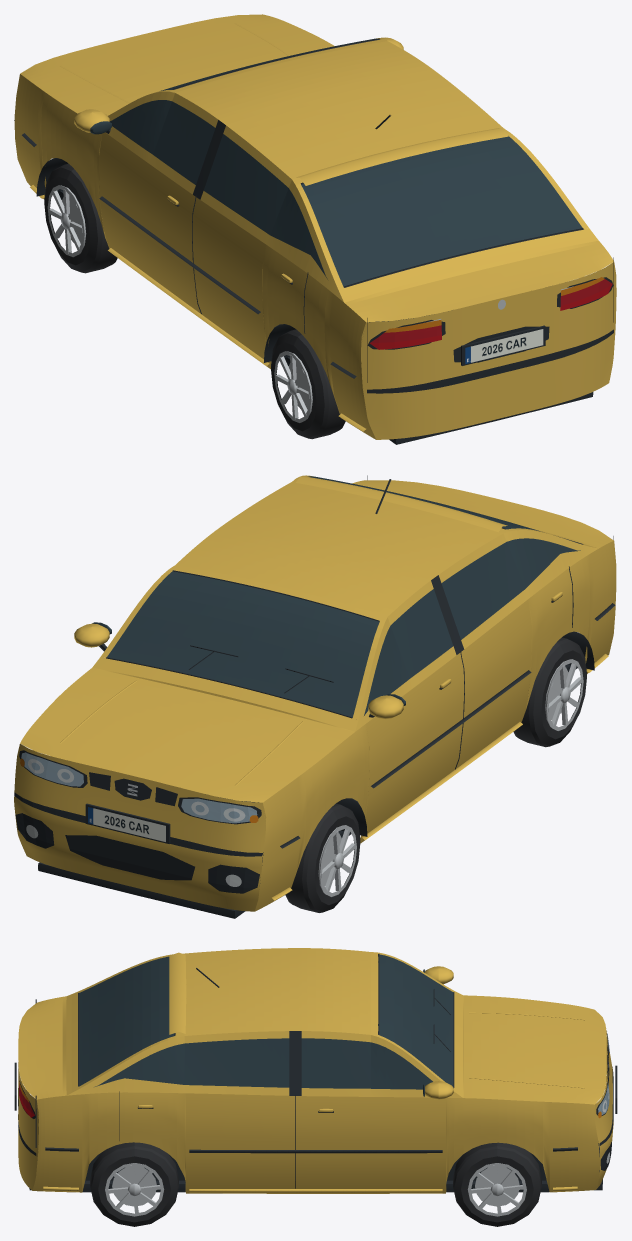
The model's file is Entrega_15_LOD1.glb.
3 views of the same model, one above another, from view 1: azimuth 30°, elevation 25°; view 2: azimuth 150°, elevation 25°; view 3: azimuth 270°, elevation 25° (orthographic). The views are drawn at different scales.
Visible parts, largest first — view 1: Body, Glass, Wheel_RL, Wheel_FL, Plates, BrakeLights, TailLights; view 2: Body, Glass, Wheel_FL, Wheel_RL, Headlights, Plates; view 3: Body, Glass, Wheel_RR, Wheel_FR.
Boxes of the visible parts, left/top/right/bottom form: Body: left=14, top=14, right=616, bottom=444; Glass: left=90, top=38, right=582, bottom=287; Wheel_RL: left=271, top=329, right=345, bottom=439; Wheel_FL: left=44, top=163, right=117, bottom=273; Plates: left=465, top=329, right=543, bottom=363; BrakeLights: left=370, top=279, right=612, bottom=342; TailLights: left=369, top=284, right=612, bottom=349; Body: left=14, top=475, right=616, bottom=918; Glass: left=92, top=476, right=580, bottom=717; Wheel_FL: left=285, top=803, right=360, bottom=912; Wheel_RL: left=513, top=637, right=586, bottom=747; Headlights: left=21, top=752, right=257, bottom=886; Plates: left=88, top=807, right=165, bottom=841; Body: left=14, top=948, right=617, bottom=1193; Glass: left=79, top=954, right=453, bottom=1096; Wheel_RR: left=90, top=1142, right=178, bottom=1226; Wheel_FR: left=453, top=1142, right=541, bottom=1226.
Size of the model in its own units: 2.07 by 1.6 by 4.18.
14 materials, 1 textured.
